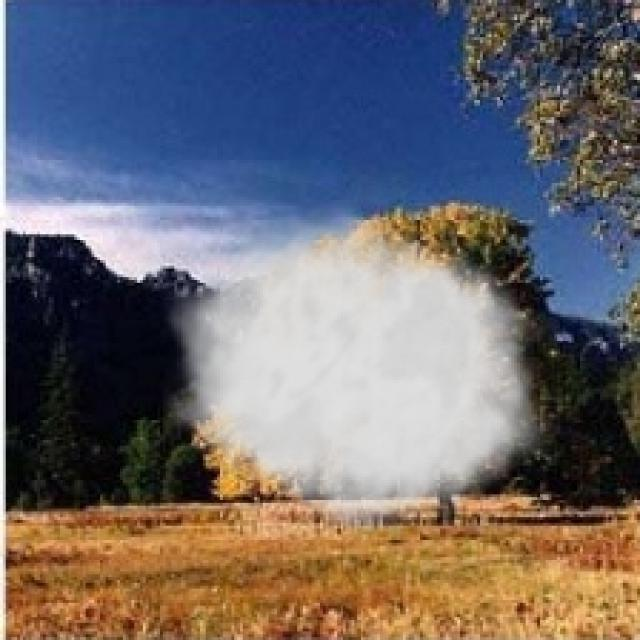smoke: (163, 197, 557, 540)
